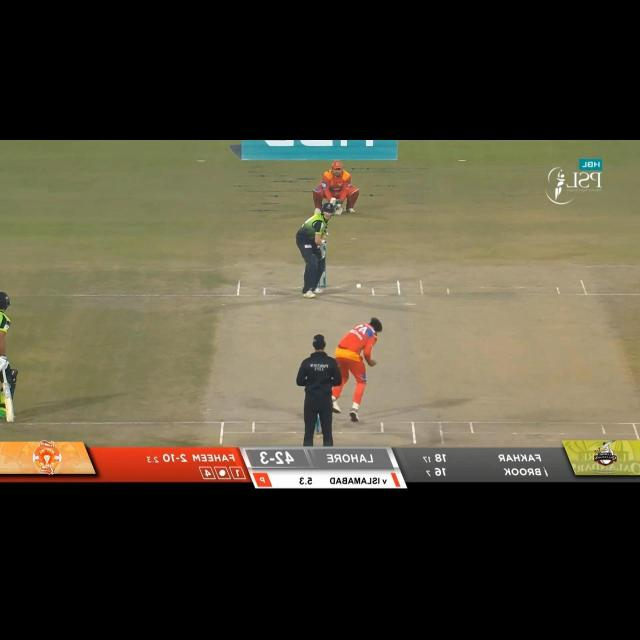bat: (2, 383, 16, 422), (328, 197, 338, 206)
toe: (6, 416, 16, 422), (330, 197, 337, 203)
